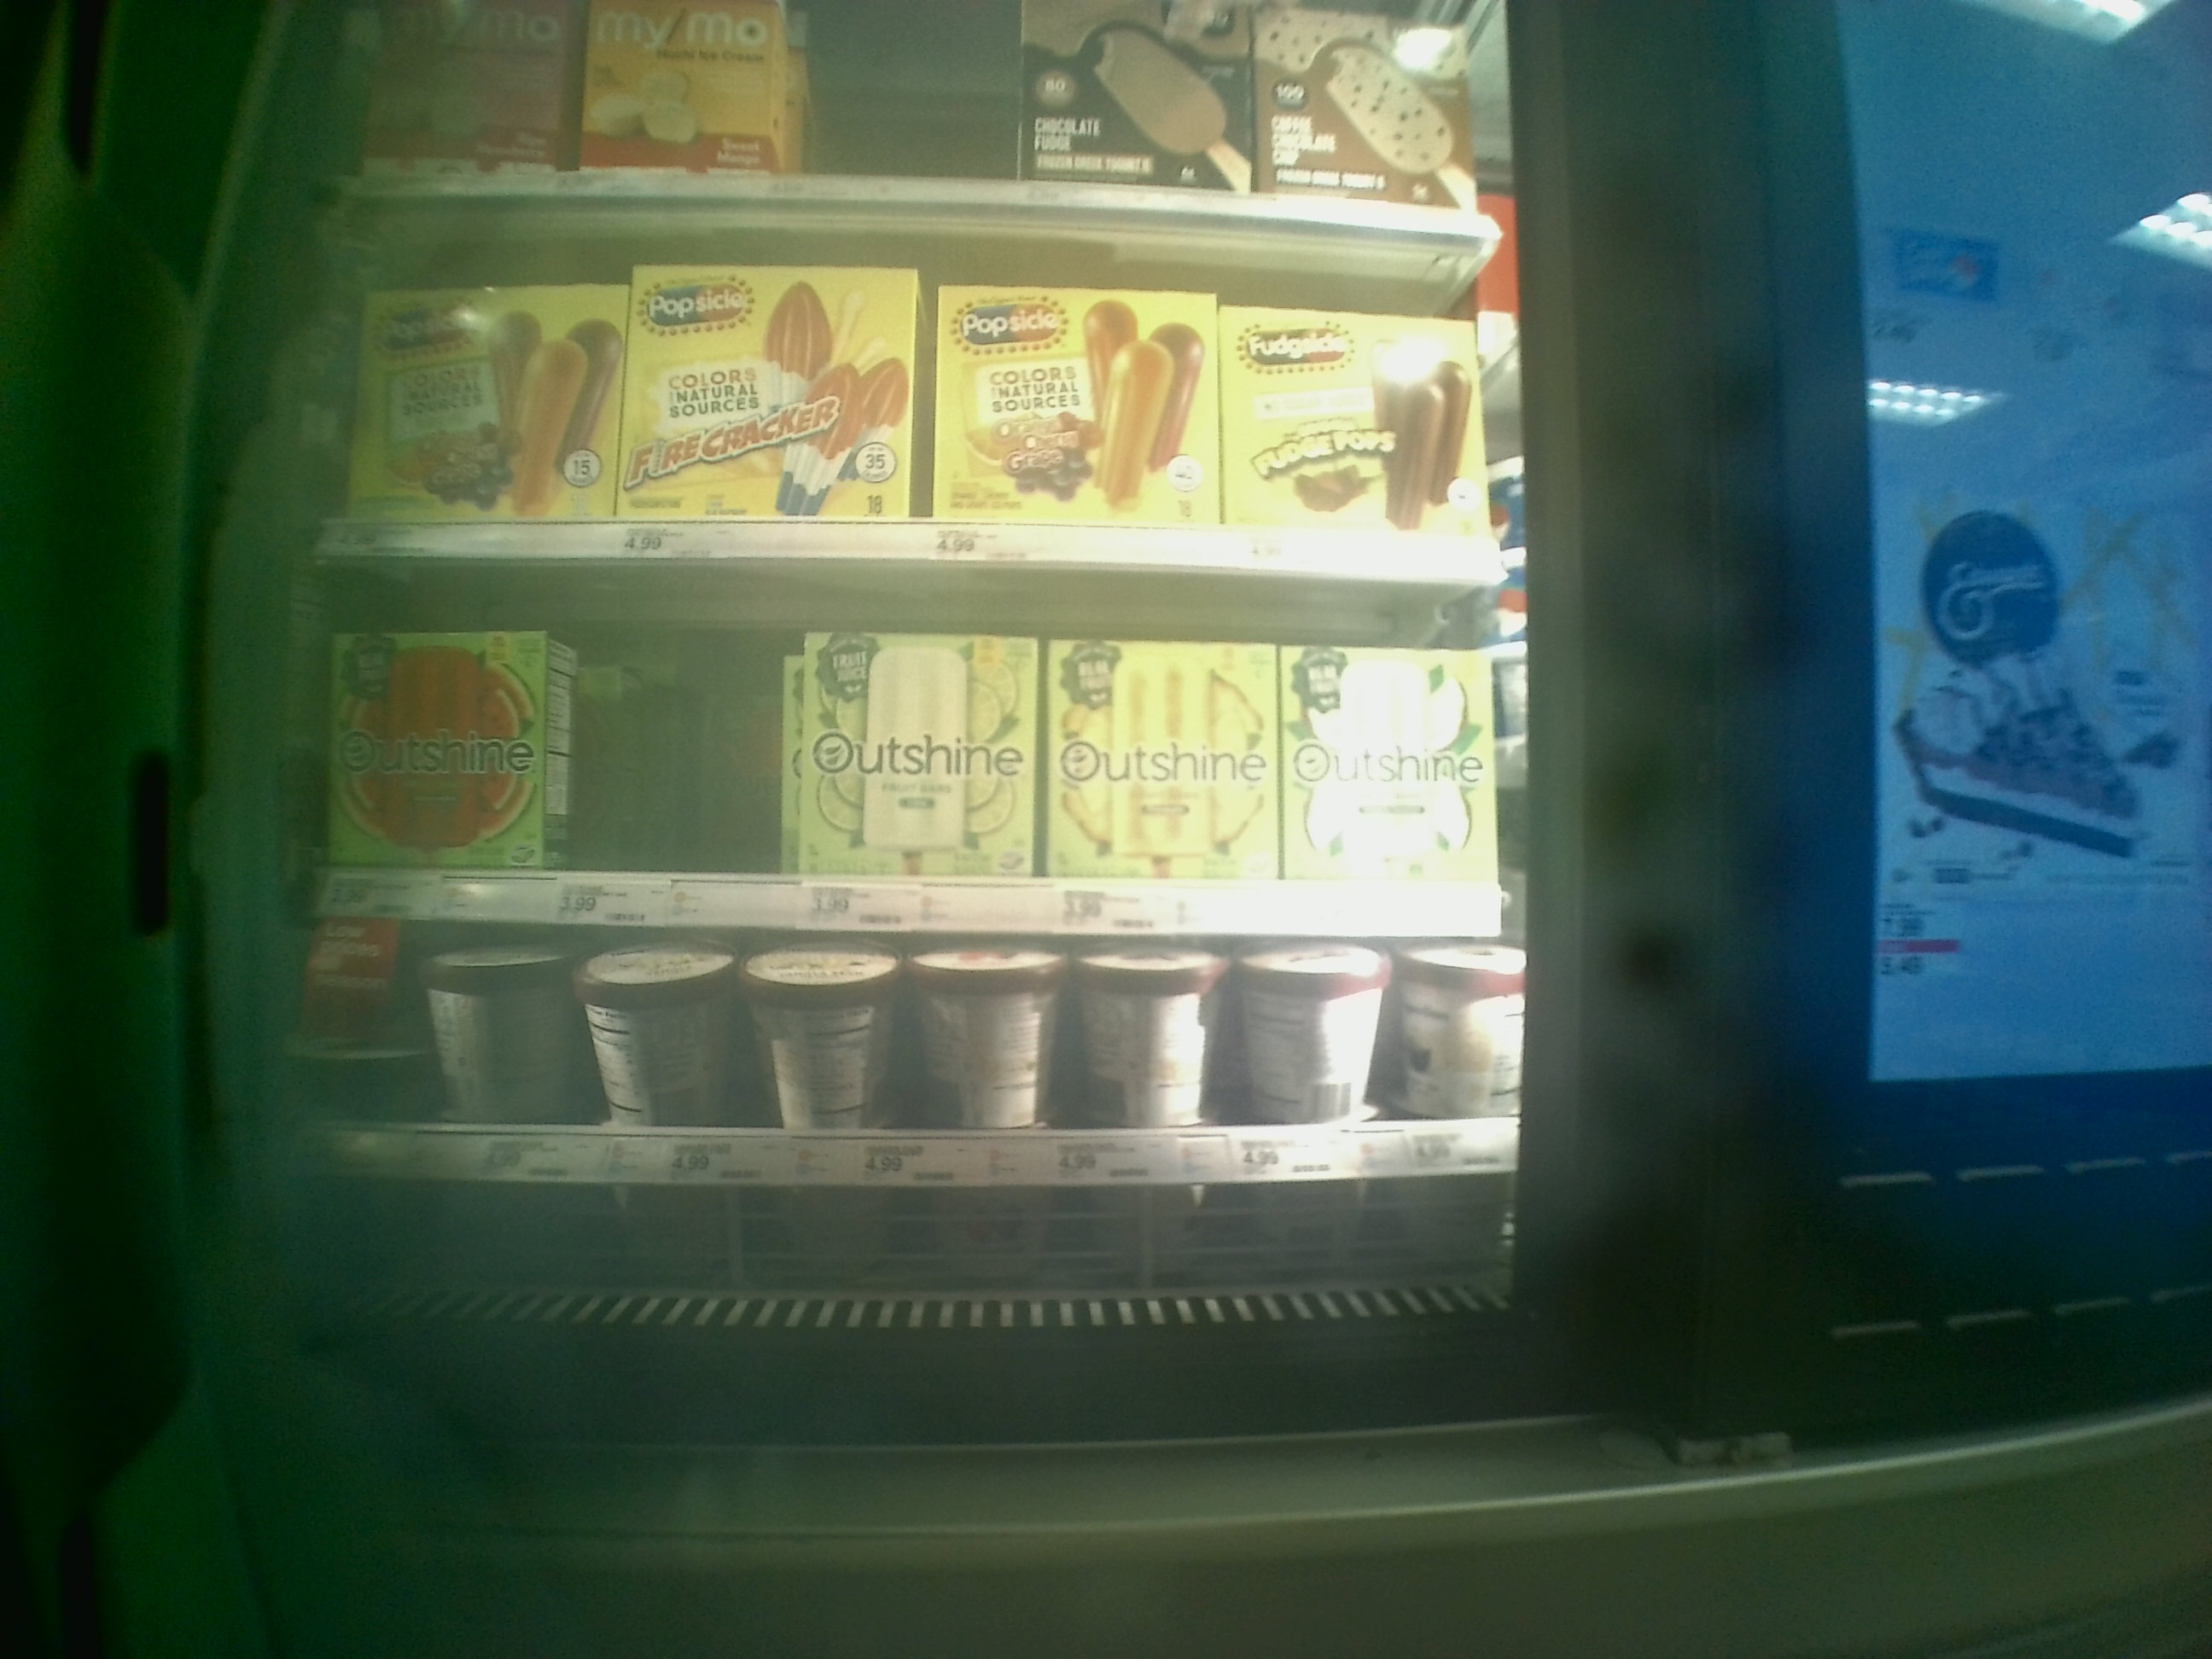shelf: (310, 556, 1519, 927), (324, 197, 1501, 556), (310, 929, 1529, 1218)
